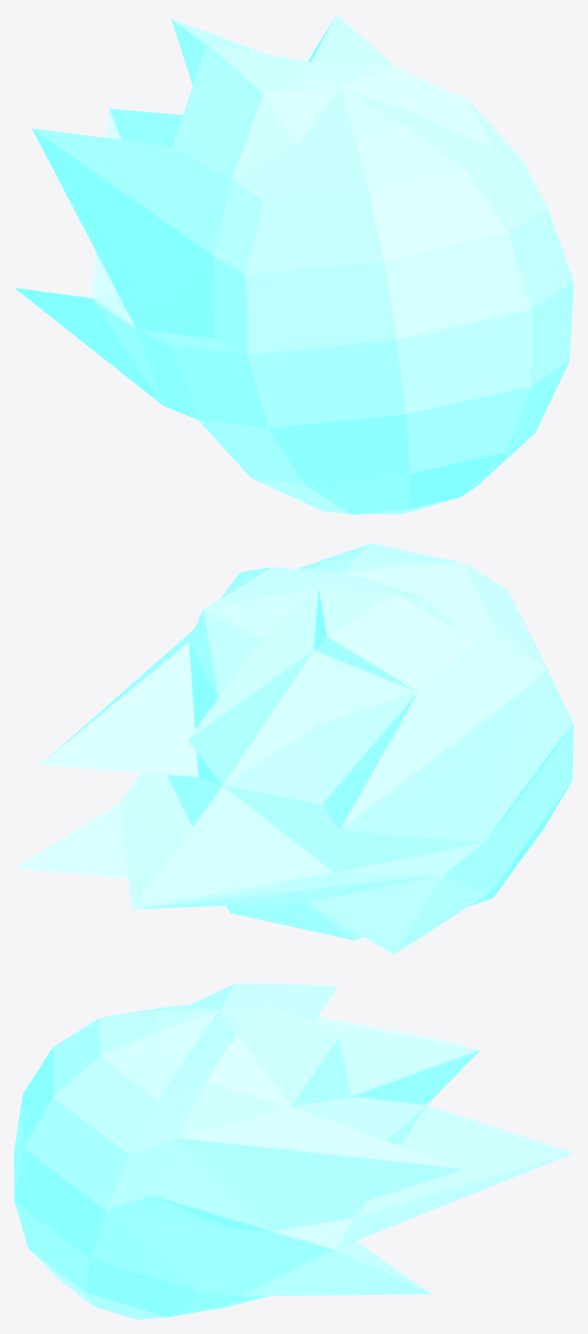
The model's file is GraceComet-local.glb.
3 views of the same model, one above another, from view 1: azimuth 30°, elevation 25°; view 2: azimuth 150°, elevation 25°; view 3: azimuth 270°, elevation 25° (orthographic). The views are drawn at different scales.
Parts seen in each view (by area): view 1: CometSpin; view 2: CometSpin; view 3: CometSpin.
Part boxes in pixels (bbox=[...]): CometSpin: bbox=[14, 14, 573, 514]; CometSpin: bbox=[14, 543, 573, 954]; CometSpin: bbox=[14, 983, 573, 1319].
Bounding box in the file's own units: 7.41 × 6.86 × 11.51.
